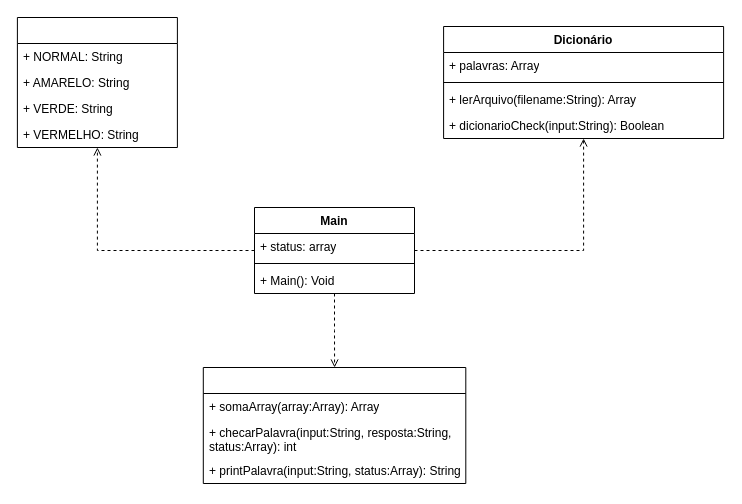
The diagram is 742 pixels wide and 504 high, and some of its shapes have lost their labels. Here are the shapes that lost their labels. From the top down, the box of each, then its label:
(16, 16, 177, 148): Cores
(202, 366, 466, 484): WordChecker
